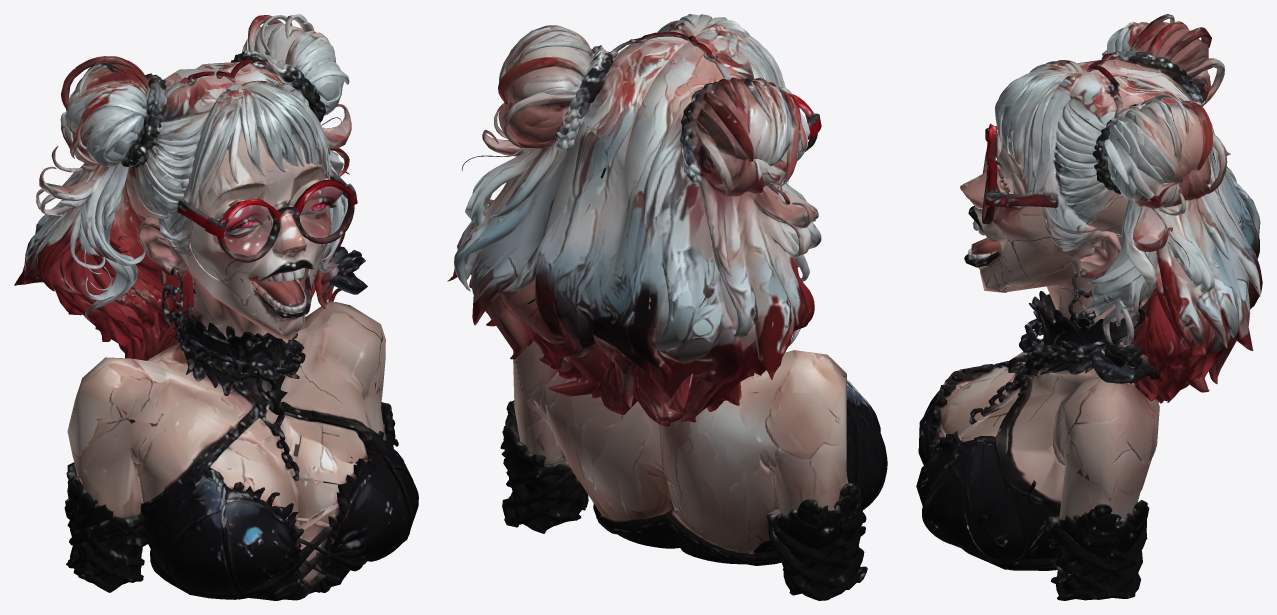
File: 01a19d7b-ea15-73e4-a417-523d7cffe0be.glb
3 renders of one model, left to right at view 1: azimuth 30°, elevation 25°; view 2: azimuth 150°, elevation 25°; view 3: azimuth 270°, elevation 25°, orthographic. The views are drawn at different scales.
Parts seen in each view (by area): view 1: model; view 2: model; view 3: model.
Part boxes in pixels (x1,y1,x2,y2): model: (14, 14, 418, 600); model: (447, 14, 887, 600); model: (916, 14, 1262, 600).
Bounding box in the file's own units: 1.32 × 1.89 × 1.25.
1 material, 1 textured.
